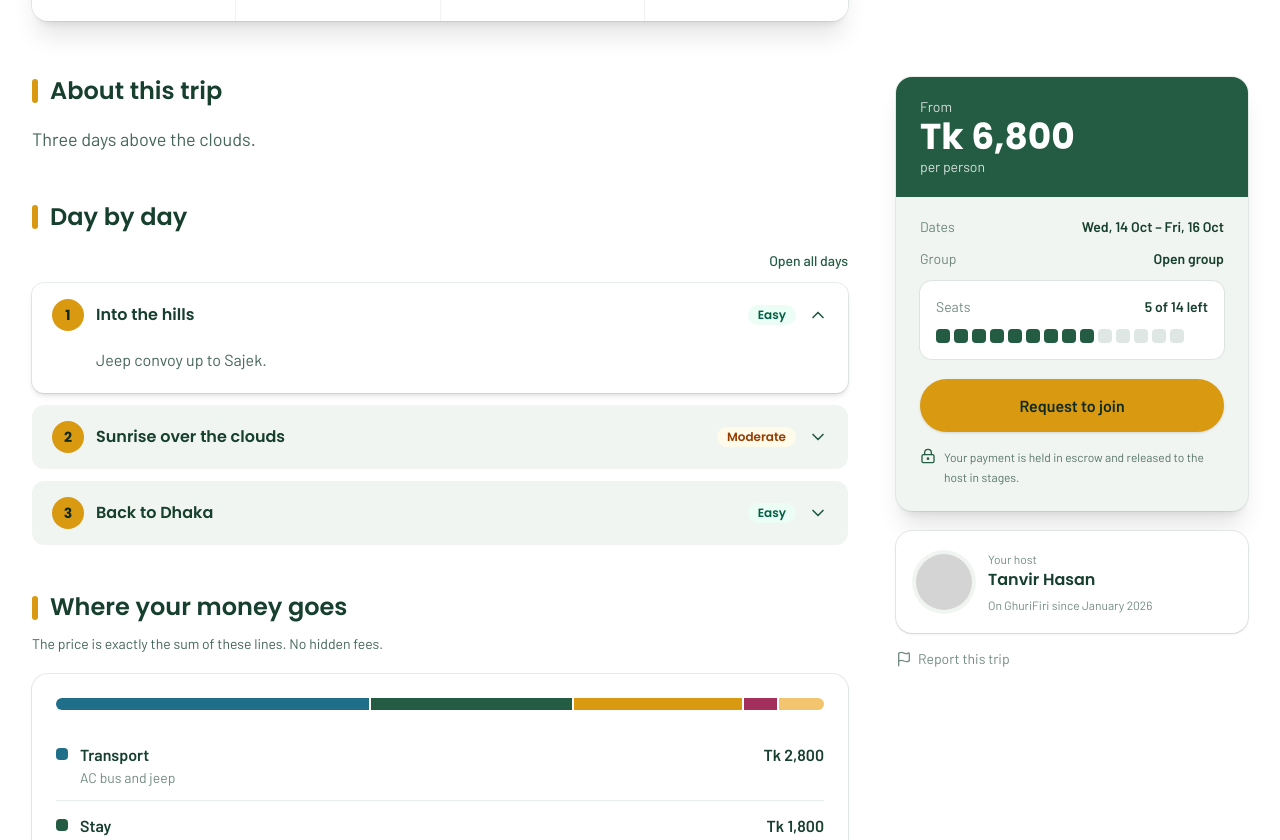
Scenario: TripDetailPage › sends a join request with the note and says what happens next
(page scrolled)
Click the button "Request to join": x=1072, y=405 [920,378,1224,432]
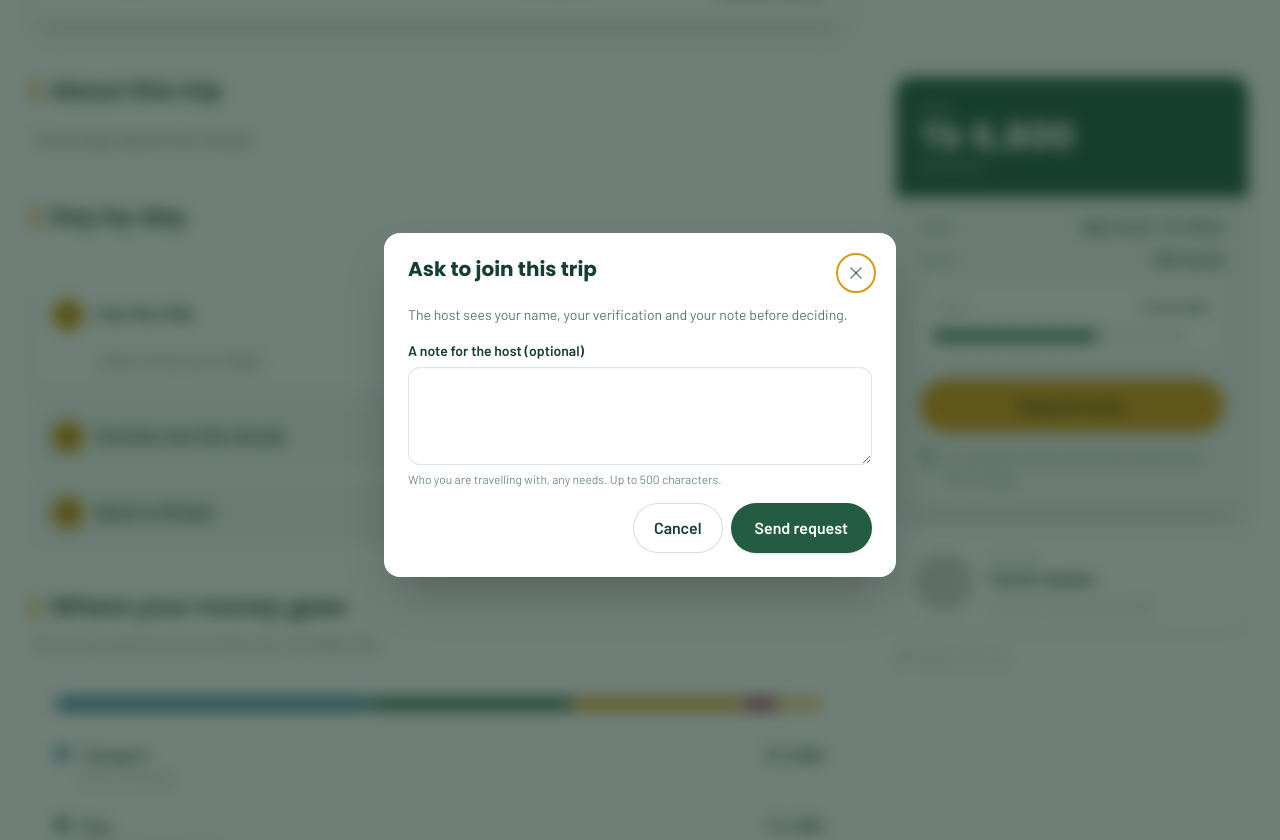
In the text box labelled "A note for the host (optional)": x=640, y=416 [408,367,872,465], type "Two of us."
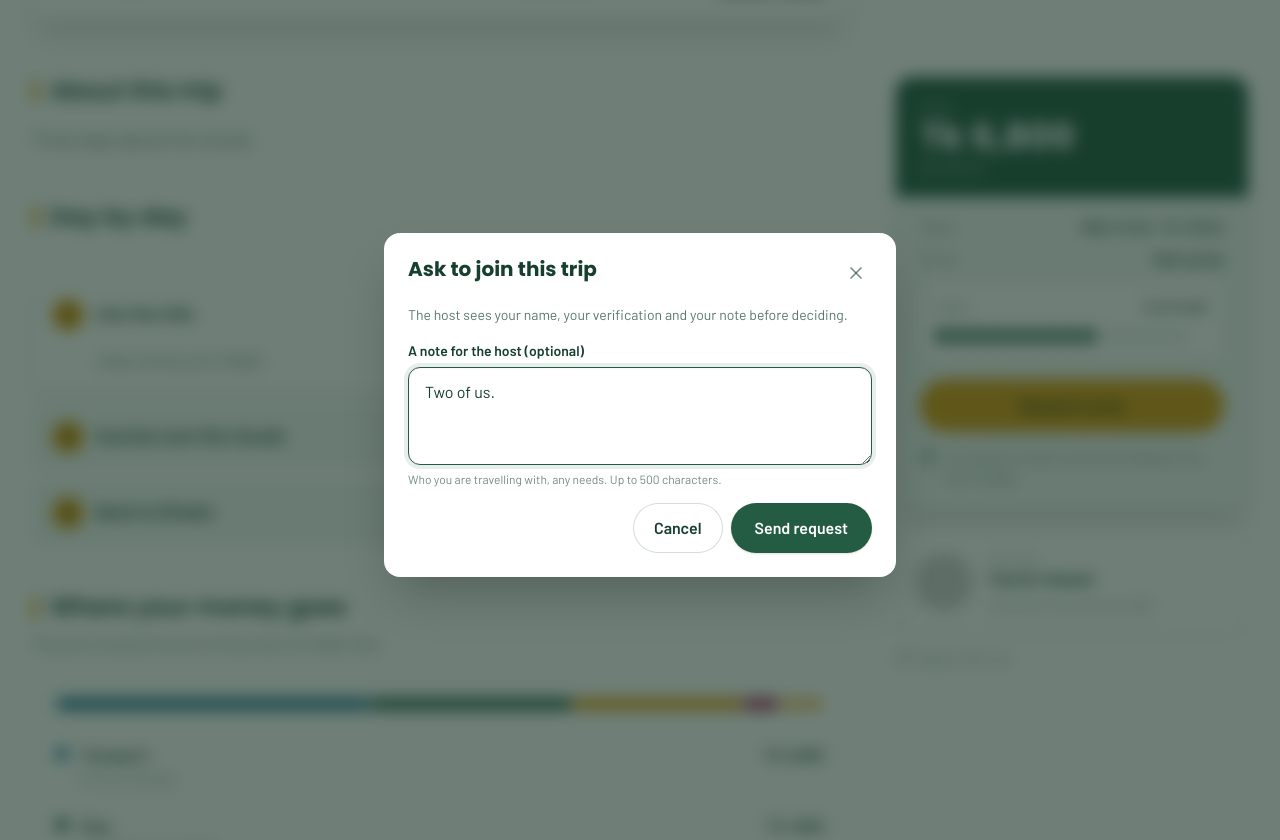
Click the button "Send request": x=801, y=528 [730,503,872,553]
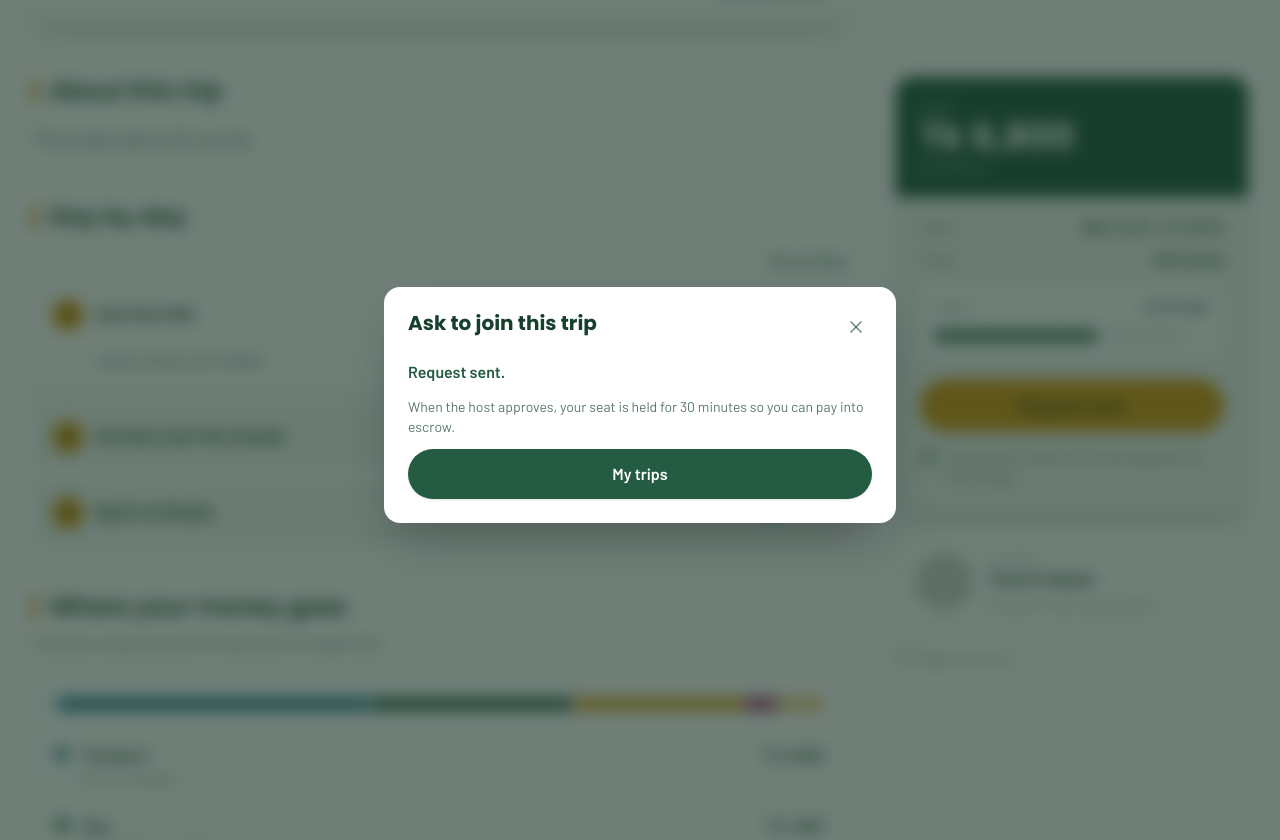
Result: the text "Request sent." is shown at [408,362,505,381]
